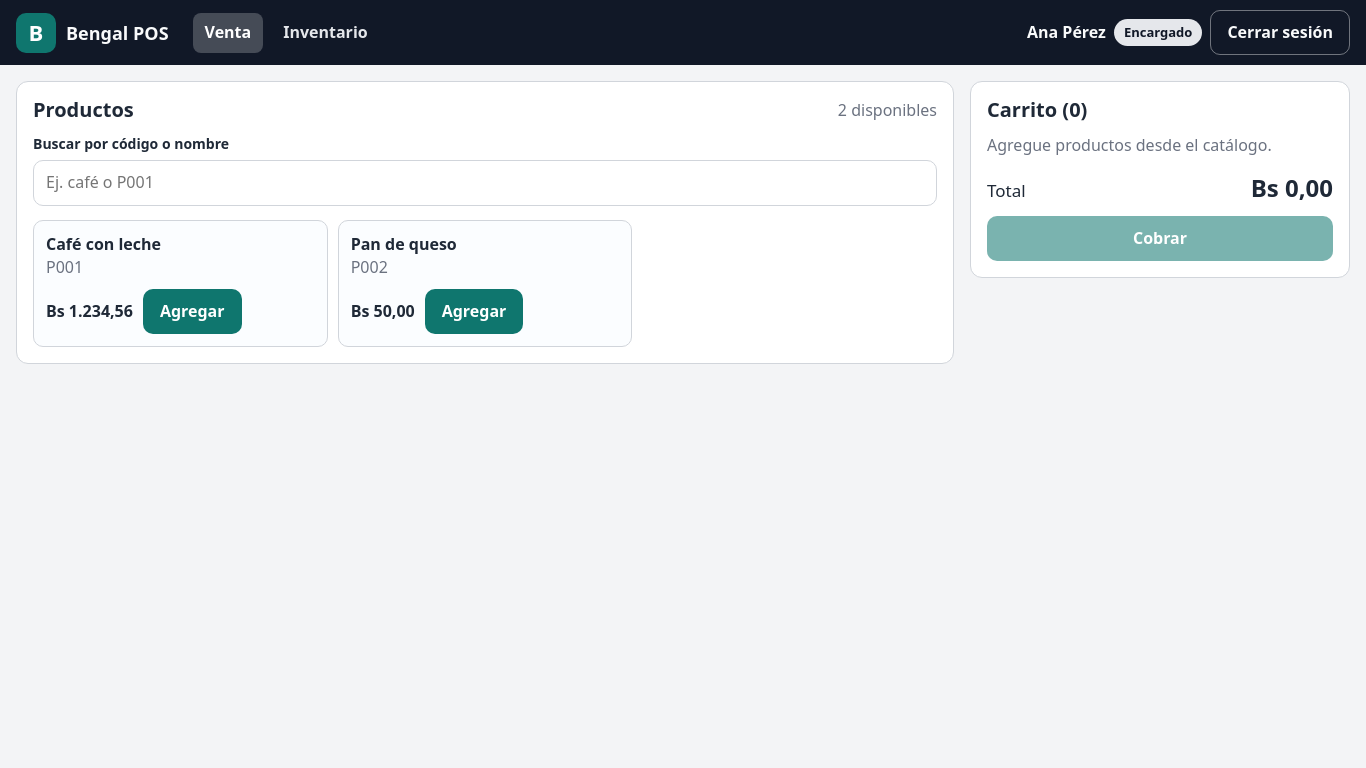
Test: pantalla de venta › muestra el cambio del backend para pagos en efectivo
Click the button with aria-label "Agregar Café con leche": (192, 312) [143,289,242,334]
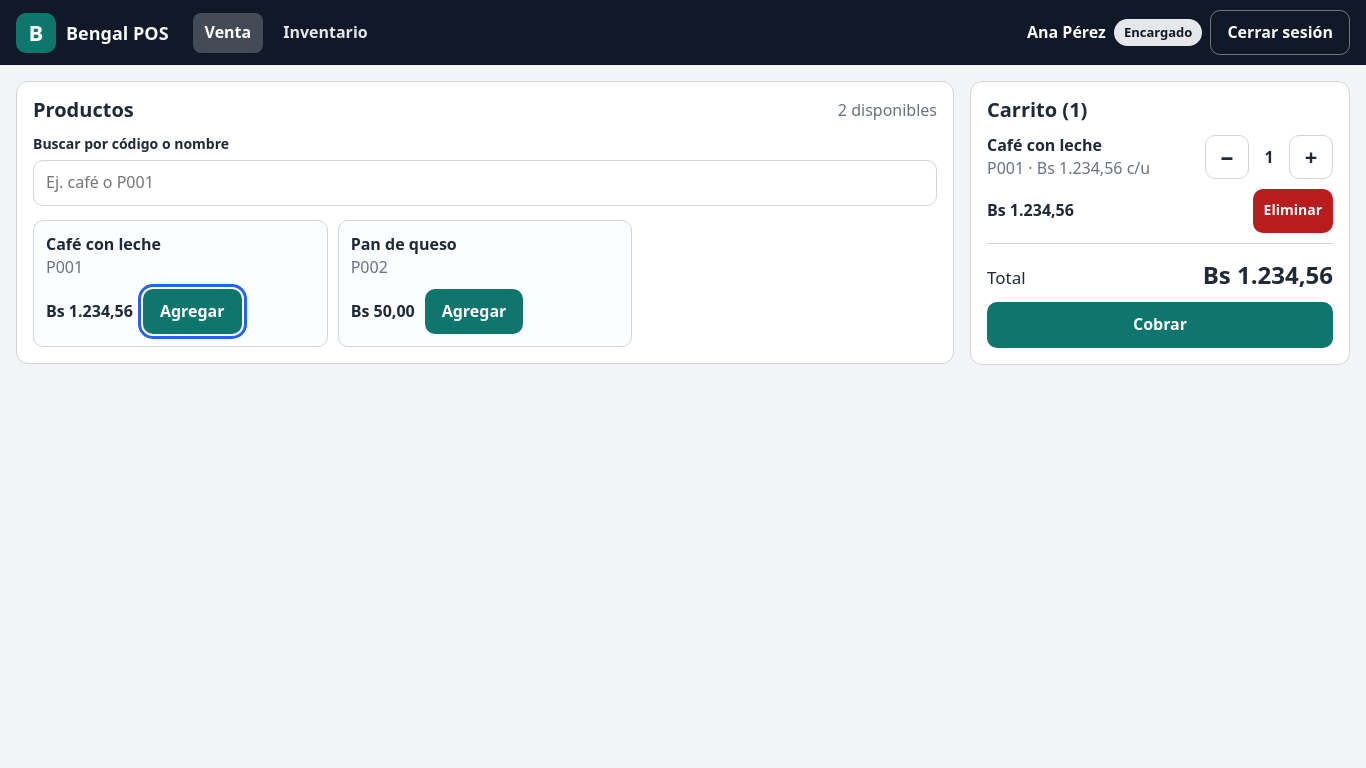
Click the button "Cobrar": (1160, 325) [987,302,1333,348]
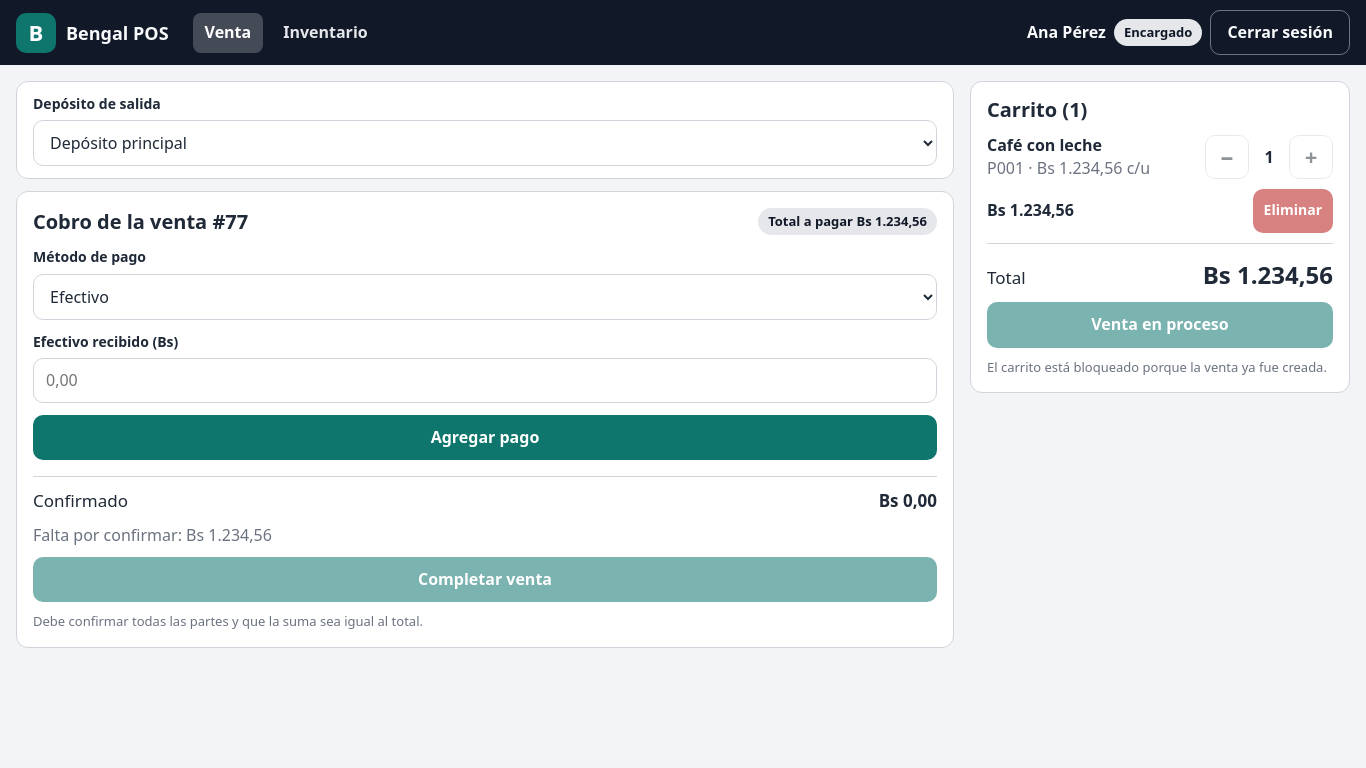
Expected: the heading "Cobro de la venta #77" is shown, [33,210,248,234]
In the field labelled "Efectivo recibido (Bs)": (485, 380) [33,358,937,403], type "2000"
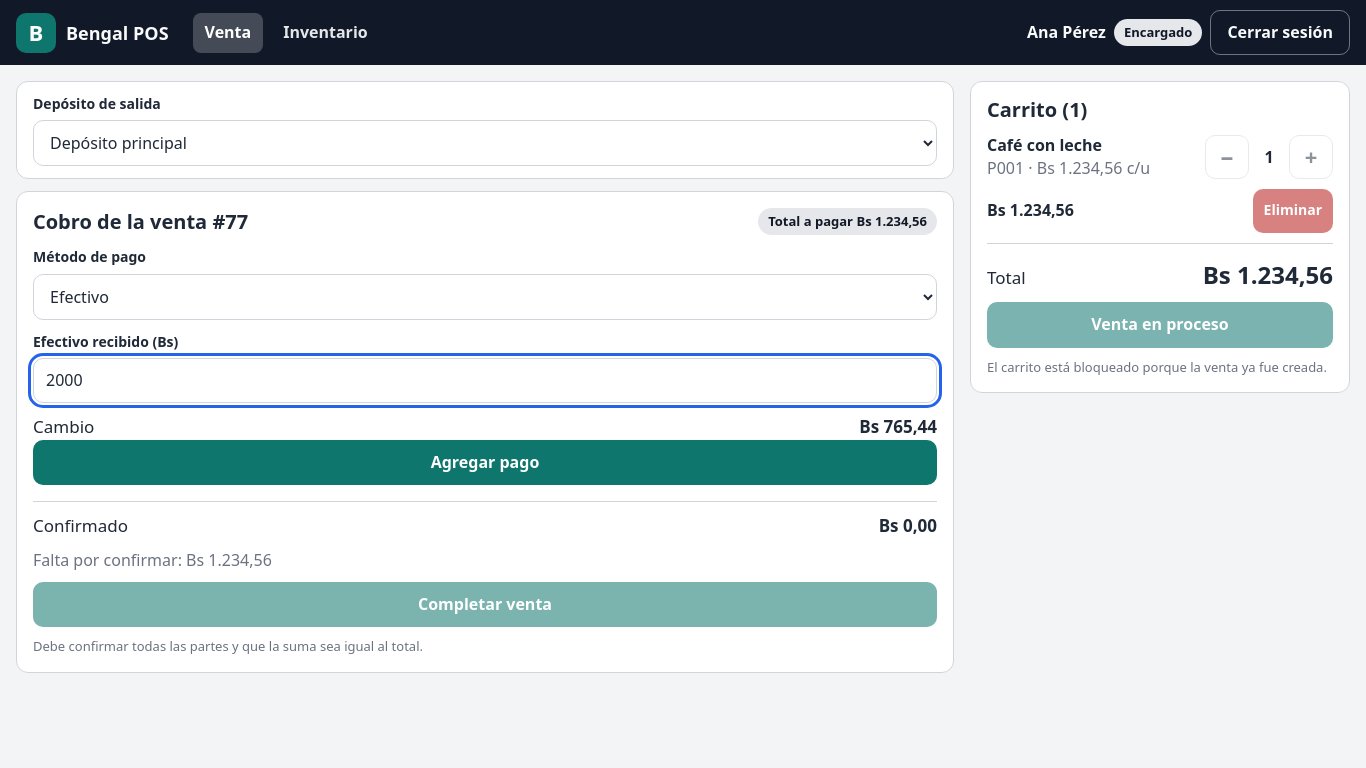
Click the button "Agregar pago": (485, 462) [33,440,937,485]
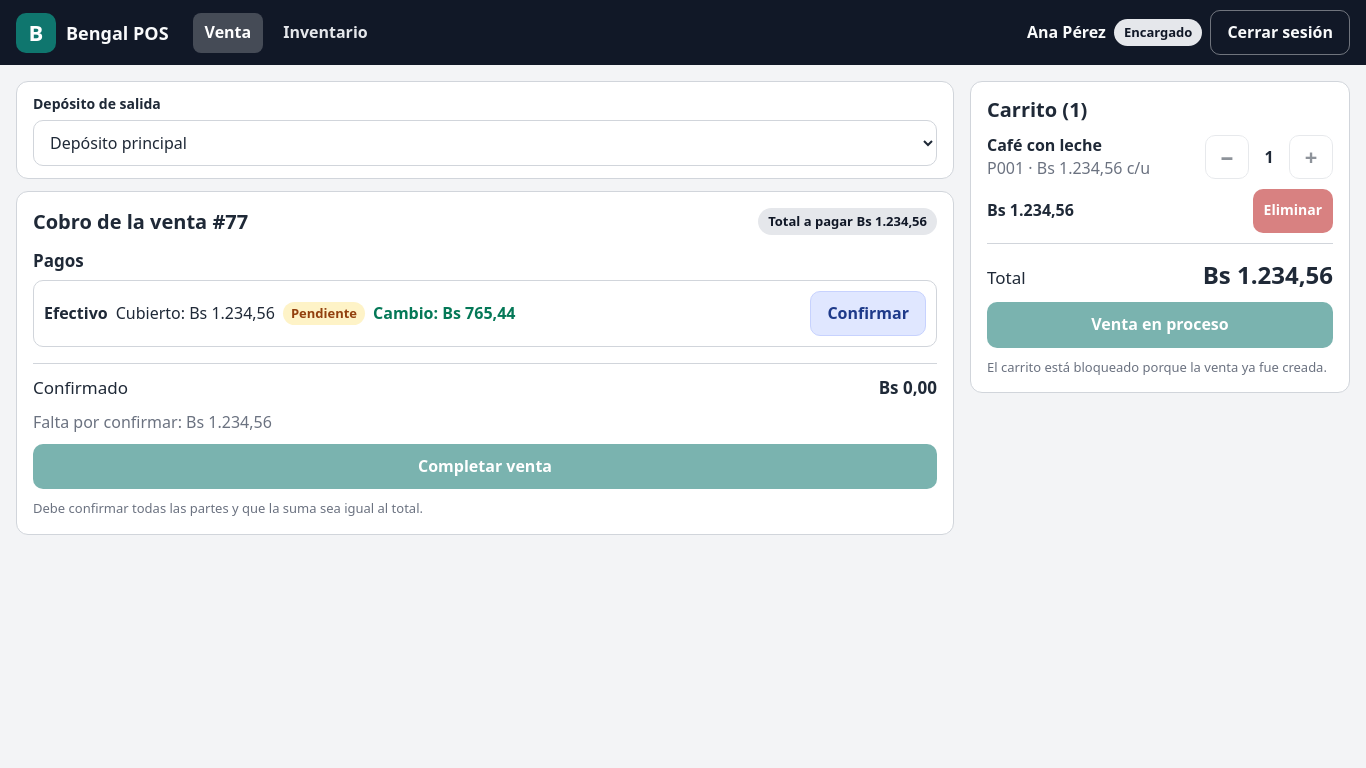
Expected: the text "Cambio: Bs 765,44" is shown, [373,302,515,325]
